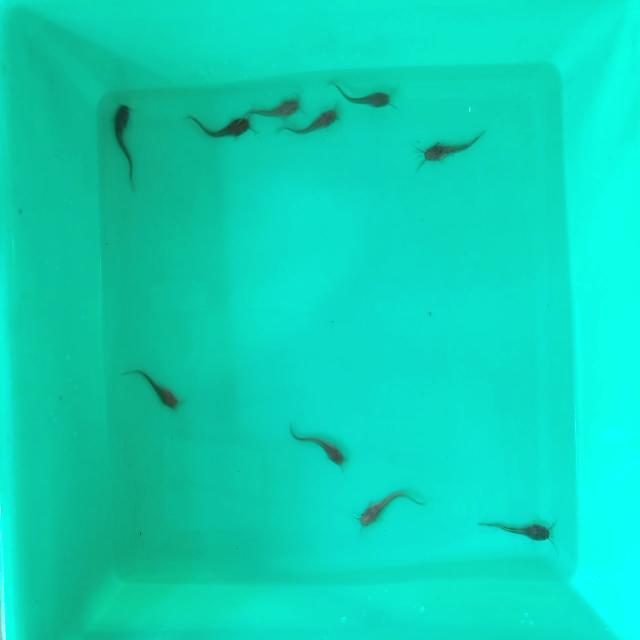lele: (353, 488, 427, 534), (122, 366, 182, 416), (110, 105, 140, 183), (477, 520, 557, 548), (423, 132, 485, 168), (290, 432, 348, 467), (280, 105, 338, 139), (186, 111, 252, 138), (334, 85, 396, 111), (248, 94, 302, 118)
